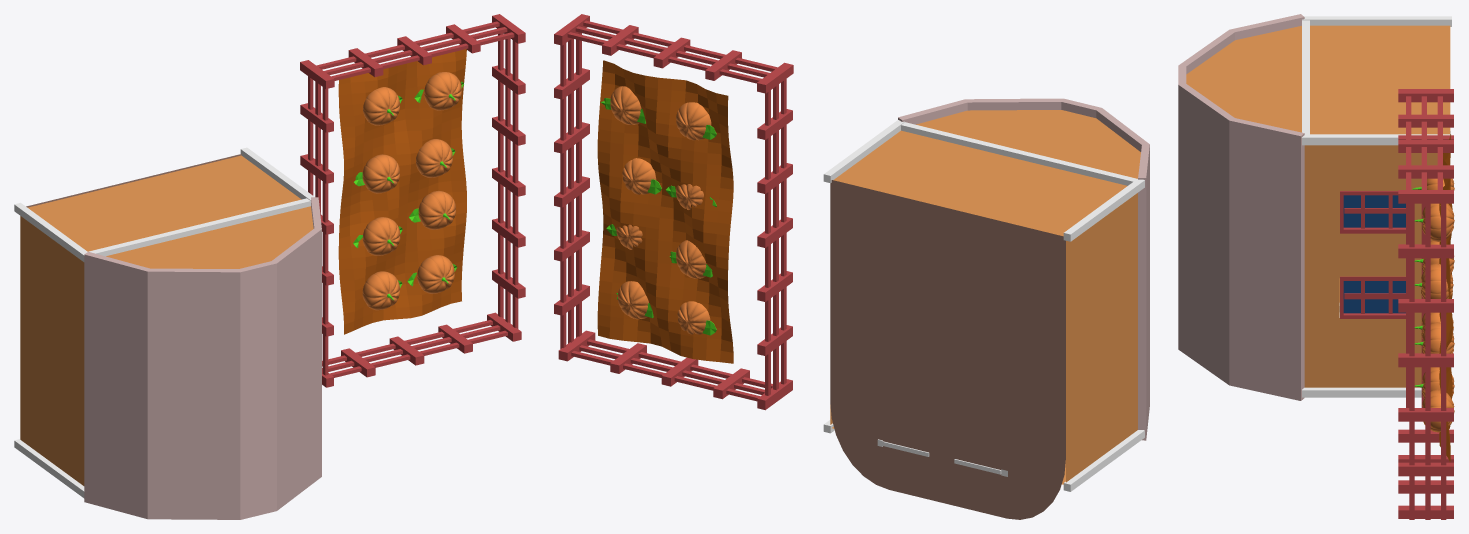
Rendered from house.gltf.
3 renders of one model, left to right at view 1: azimuth 30°, elevation 25°; view 2: azimuth 150°, elevation 25°; view 3: azimuth 270°, elevation 25°, orthographic. The views are drawn at different scales.
Visible parts, largest first — view 1: Cube.001, House, Plane.007, Fence.001, Fence.002, Garden, Fence, Cube.012, Pumpkin.002, Pumpkin.007, Pumpkin.001, Pumpkin.005 (+7 smaller); view 2: House.001, House, Plane.007, Fence.001, Fence, Cube.001, Fence.002, Garden, Cube.012, Cube.011, Cube.008, Cube.010 (+6 smaller); view 3: House, Cube.001, Fence.001, Fence.002, Garden, Plane.003, Plane, Plane.001, Plane.002, Cube.011, Cube.010, Cube.007 (+8 smaller).
Boxes of the visible parts, bbox=[...] form: Cube.001: bbox=[84, 197, 321, 519]; House: bbox=[20, 155, 313, 485]; Plane.007: bbox=[338, 49, 466, 334]; Fence.001: bbox=[492, 14, 525, 328]; Fence.002: bbox=[300, 21, 514, 88]; Garden: bbox=[322, 312, 521, 377]; Fence: bbox=[300, 76, 333, 387]; Cube.012: bbox=[88, 198, 310, 256]; Pumpkin.002: bbox=[362, 154, 399, 193]; Pumpkin.007: bbox=[424, 72, 461, 110]; Pumpkin.001: bbox=[362, 271, 399, 310]; Pumpkin.005: bbox=[362, 217, 400, 255]; House.001: bbox=[830, 180, 1065, 519]; House: bbox=[830, 110, 1140, 484]; Plane.007: bbox=[597, 60, 733, 363]; Fence.001: bbox=[554, 14, 589, 348]; Fence: bbox=[757, 79, 792, 410]; Cube.001: bbox=[898, 98, 1149, 440]; Fence.002: bbox=[567, 20, 793, 93]; Garden: bbox=[558, 330, 772, 401]; Cube.012: bbox=[901, 122, 1136, 185]; Cube.011: bbox=[1063, 179, 1144, 241]; Cube.008: bbox=[1063, 430, 1144, 491]; Cube.010: bbox=[823, 120, 904, 183]; House: bbox=[1186, 25, 1450, 387]; Cube.001: bbox=[1178, 14, 1304, 400]; Fence.001: bbox=[1398, 190, 1453, 519]; Fence.002: bbox=[1398, 89, 1453, 189]; Garden: bbox=[1398, 429, 1453, 518]; Plane.003: bbox=[1343, 195, 1405, 227]; Plane: bbox=[1340, 276, 1405, 318]; Plane.001: bbox=[1343, 281, 1405, 313]; Plane.002: bbox=[1340, 191, 1405, 233]; Cube.011: bbox=[1302, 16, 1451, 26]; Cube.010: bbox=[1302, 134, 1451, 145]; Cube.007: bbox=[1302, 387, 1421, 397].
Size of the model in its own units: 4.38 by 3.05 by 2.01.
